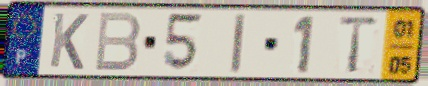1: (292, 13, 317, 75)
5: (160, 11, 206, 75)
B: (92, 11, 143, 74)
I: (228, 11, 248, 76)
K: (47, 11, 91, 73)
T: (336, 14, 382, 76)
